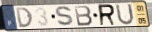3: (35, 7, 50, 28)
B: (74, 5, 95, 27)
D: (15, 7, 34, 29)
R: (97, 3, 117, 27)
S: (54, 6, 77, 28)
U: (114, 3, 136, 27)
